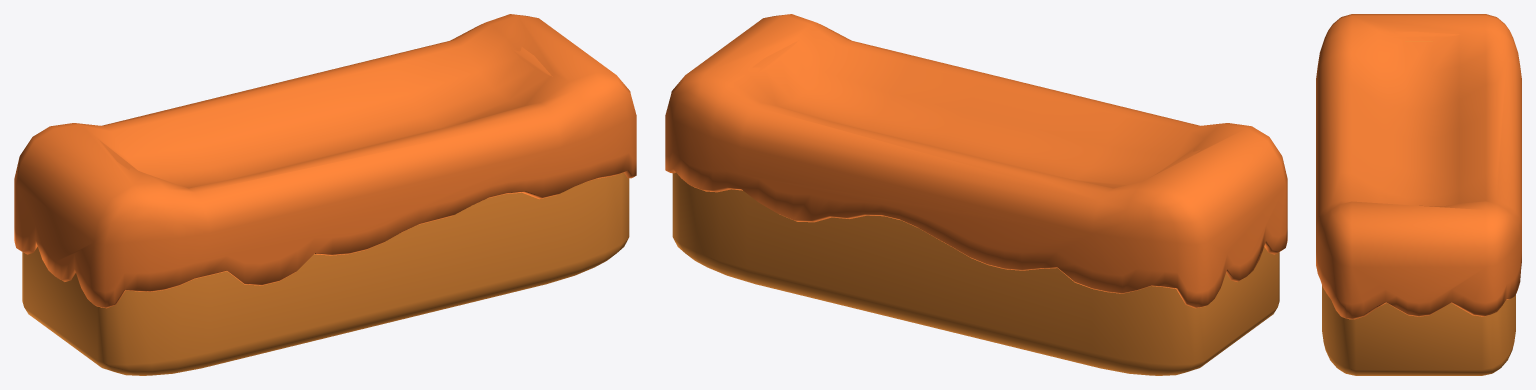
File: maple_bar.fbx
3 views of the same model, side by side, from view 1: azimuth 30°, elevation 25°; view 2: azimuth 150°, elevation 25°; view 3: azimuth 270°, elevation 25° (orthographic). The views are drawn at different scales.
Visible parts, largest first — view 1: maple bar.001; view 2: maple bar.001; view 3: maple bar.001.
Part boxes in pixels (x1,y1,x2,y2): maple bar.001: [14, 14, 636, 375]; maple bar.001: [665, 14, 1287, 375]; maple bar.001: [1316, 14, 1521, 375].
Bounding box in the file's own units: 294 × 102 × 113.
